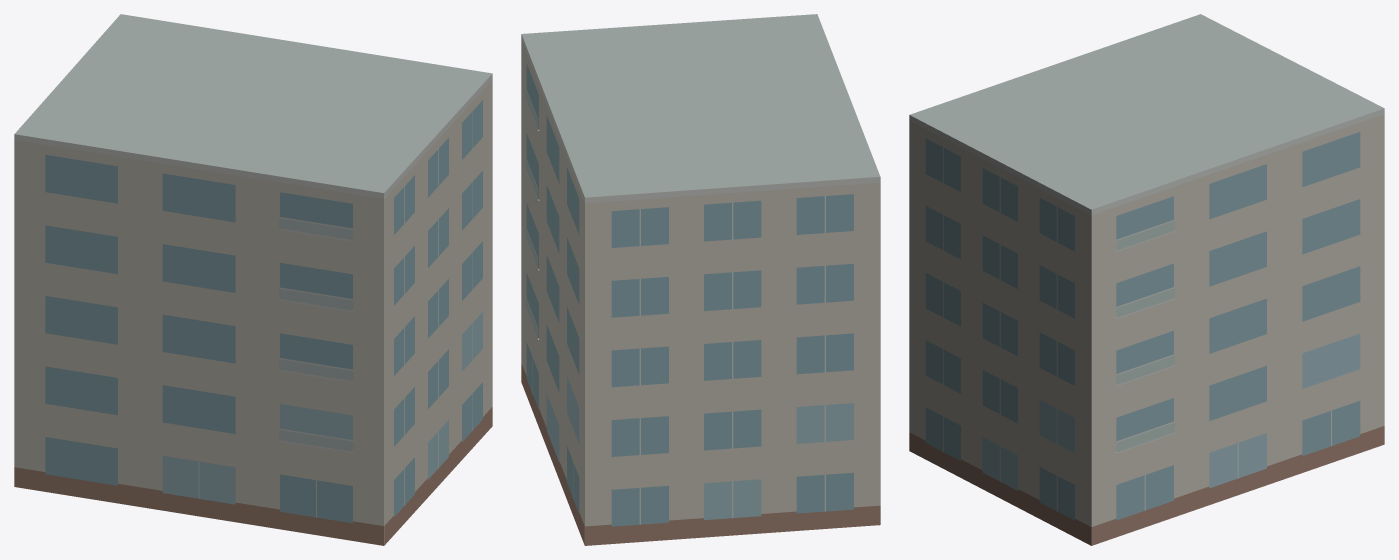
File: survey-upis-32695829.glb
The picture shows the model from 3 angles, left to right: view 1: azimuth 30°, elevation 25°; view 2: azimuth 150°, elevation 25°; view 3: azimuth 270°, elevation 25°; orthographic projection. The views are drawn at different scales.
Parts seen in each view (by area): view 1: survey-upis-32695829.tmp; view 2: survey-upis-32695829.tmp; view 3: survey-upis-32695829.tmp.
Boxes of the visible parts, x1,y1,x2,y2 form: survey-upis-32695829.tmp: (14,14,492,545); survey-upis-32695829.tmp: (521,14,880,545); survey-upis-32695829.tmp: (909,14,1384,545).
Bounding box in the file's own units: 18.18 × 14.55 × 18.66.
